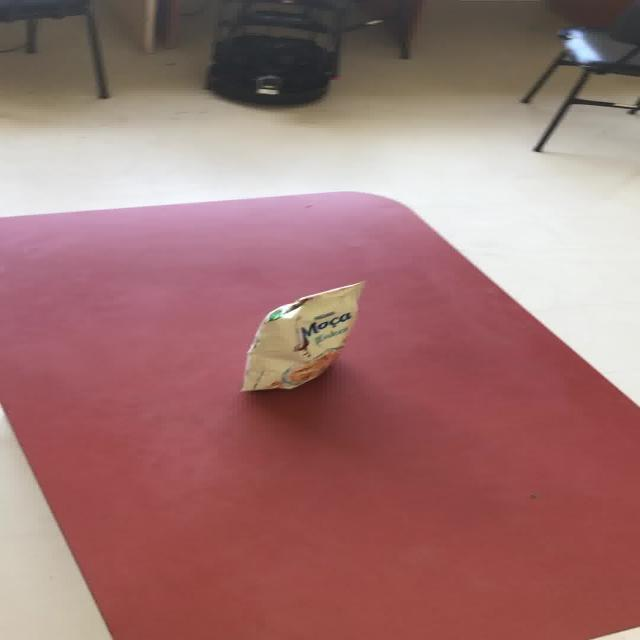corn flakes: (238, 279, 365, 392)
